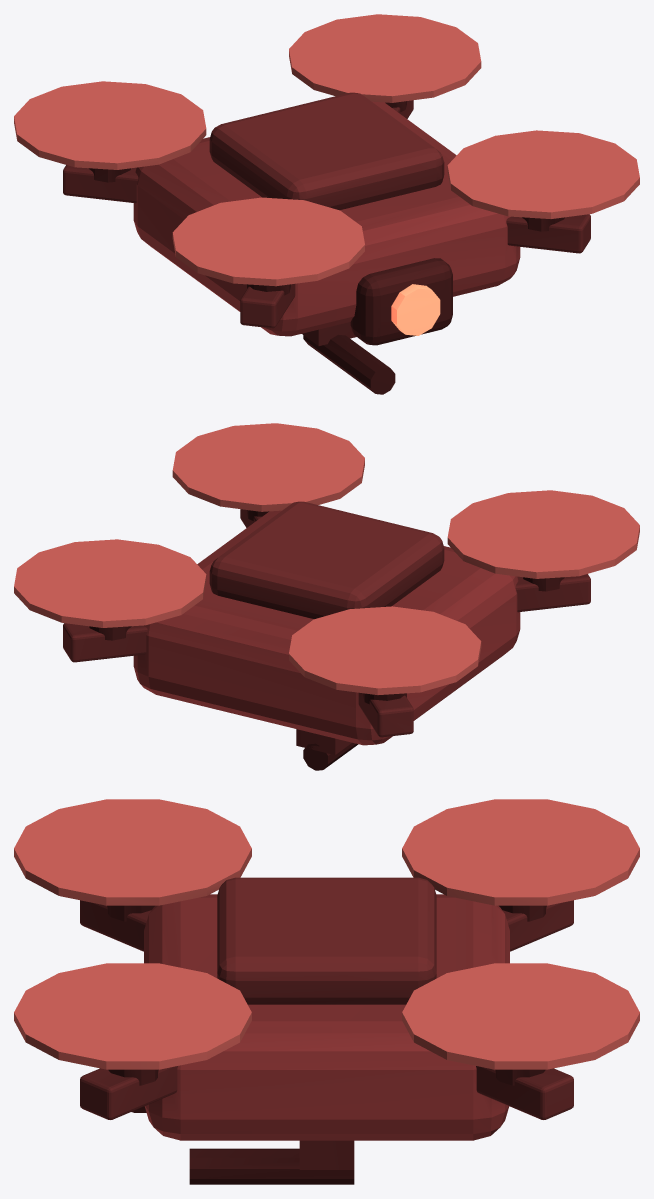
File: enemy_drone.glb
3 renders of one model, top to bottom at view 1: azimuth 30°, elevation 25°; view 2: azimuth 150°, elevation 25°; view 3: azimuth 270°, elevation 25°, orthographic. The views are drawn at different scales.
Parts seen in each view (by area): view 1: drone; view 2: drone; view 3: drone.
Part boxes in pixels (box(x1,y1,x2,y2)): drone: box(14, 14, 639, 394); drone: box(14, 423, 639, 770); drone: box(14, 799, 639, 1184).
Size of the model in its own units: 0.6777 by 0.32 by 0.6843.
